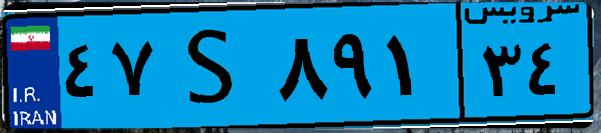1: (385, 28, 445, 110)
3: (475, 38, 525, 113)
4: (57, 26, 110, 100), (525, 38, 570, 115)
7: (110, 28, 158, 98)
8: (270, 28, 330, 110)
9: (330, 28, 385, 110)
S: (158, 12, 270, 120)
